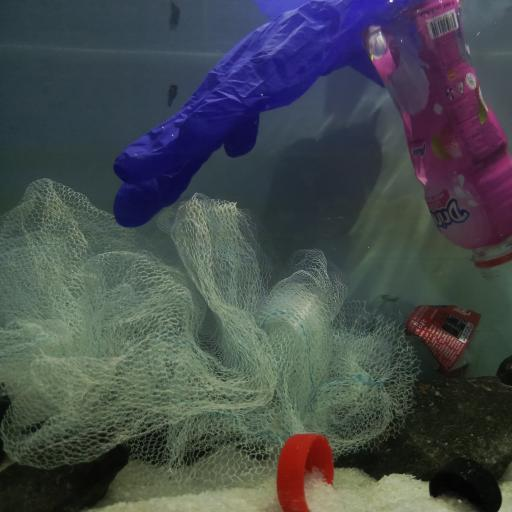bottle_cap: (278, 433, 334, 512), (429, 457, 502, 512)
glove: (110, 0, 396, 226)
net: (1, 176, 422, 480)
plastic_bottle: (362, 1, 512, 277), (370, 293, 507, 376)
